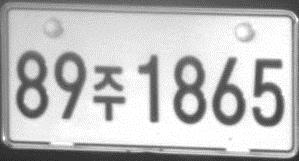1: (136, 51, 160, 124)
5: (252, 57, 285, 128)
6: (211, 56, 246, 126)
8: (14, 49, 48, 120), (173, 53, 207, 124)
9: (53, 50, 87, 120)
주: (92, 64, 126, 122)
